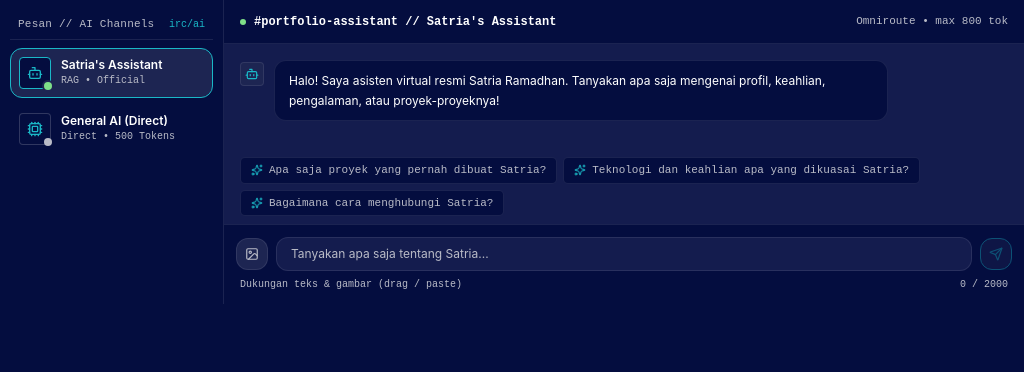
Scenario: MessageApp Component RTL Tests › displays token usage badge and header token summary when response contains usage
The width and height of the screenshot is (1024, 372).
Type "Halo test token" into the field with test id "chat-input" at (624,254), box [276, 237, 972, 271]
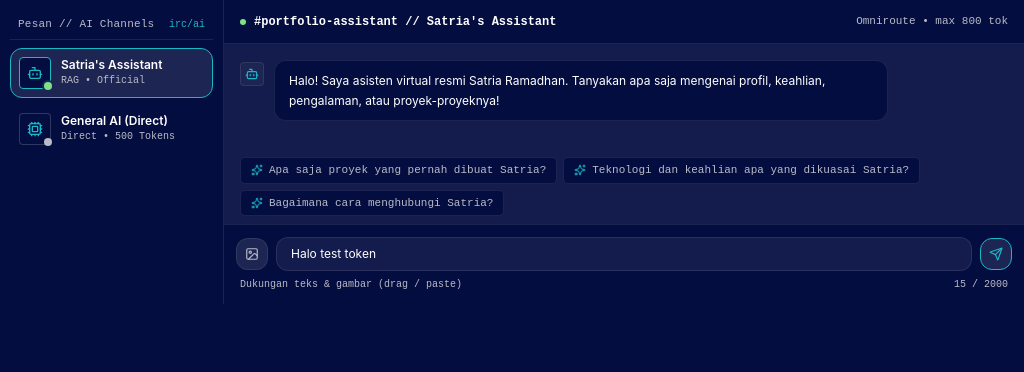
Click the button with test id "chat-send-btn" at (996,254), box [980, 238, 1012, 270]
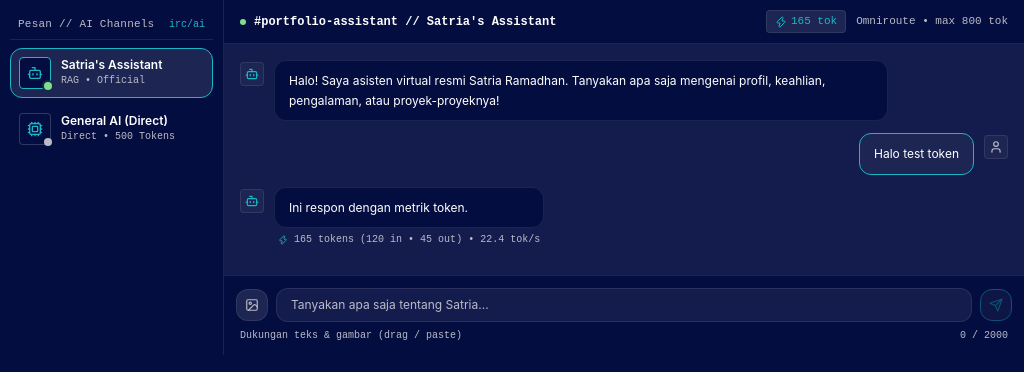
Check: the text "Ini respon dengan metrik token." is shown, box [289, 200, 468, 214]
Check: the element with test id "token-usage-badge" shows "165 tokens", box [274, 232, 544, 247]
Check: the element with test id "token-usage-badge" shows "120 in", box [274, 232, 544, 247]
